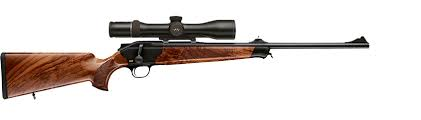gun: (1, 15, 370, 101)
